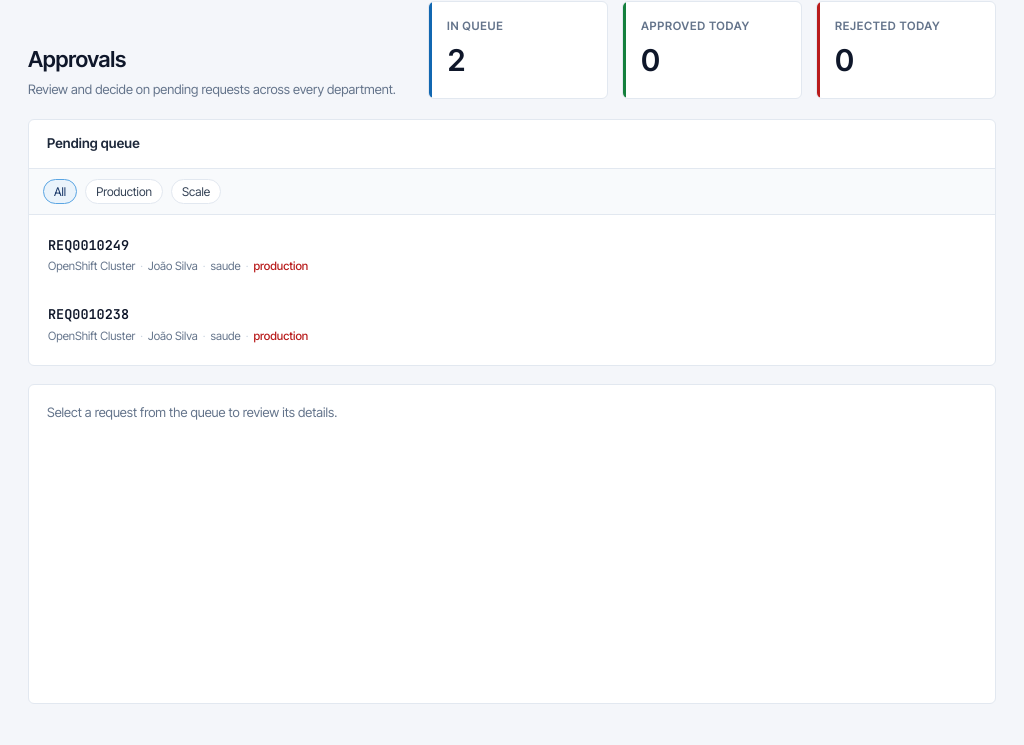
Scenario: Approvals › approving moves request out of queue, sets provisioning + stage=1, logs decided-this-session, and toasts
Click the button with class "approval-row" that starts with "REQ0010249": (88, 245) [48, 236, 308, 273]
(page scrolled)
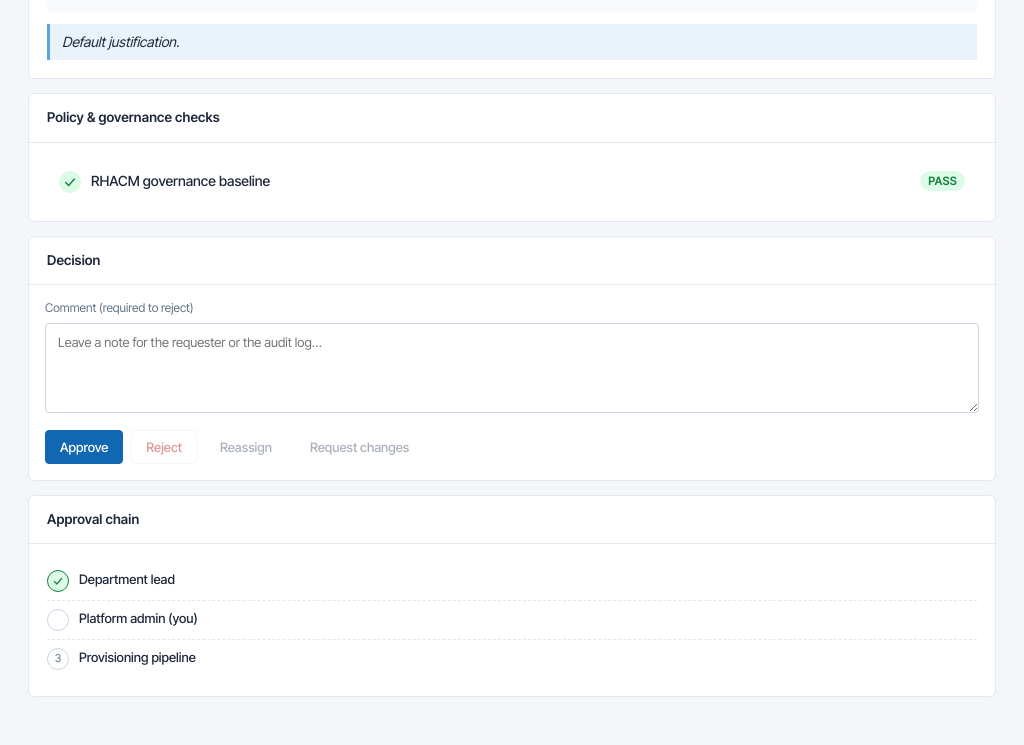
Click the button "Approve": (84, 447) [45, 430, 123, 464]
(page scrolled)
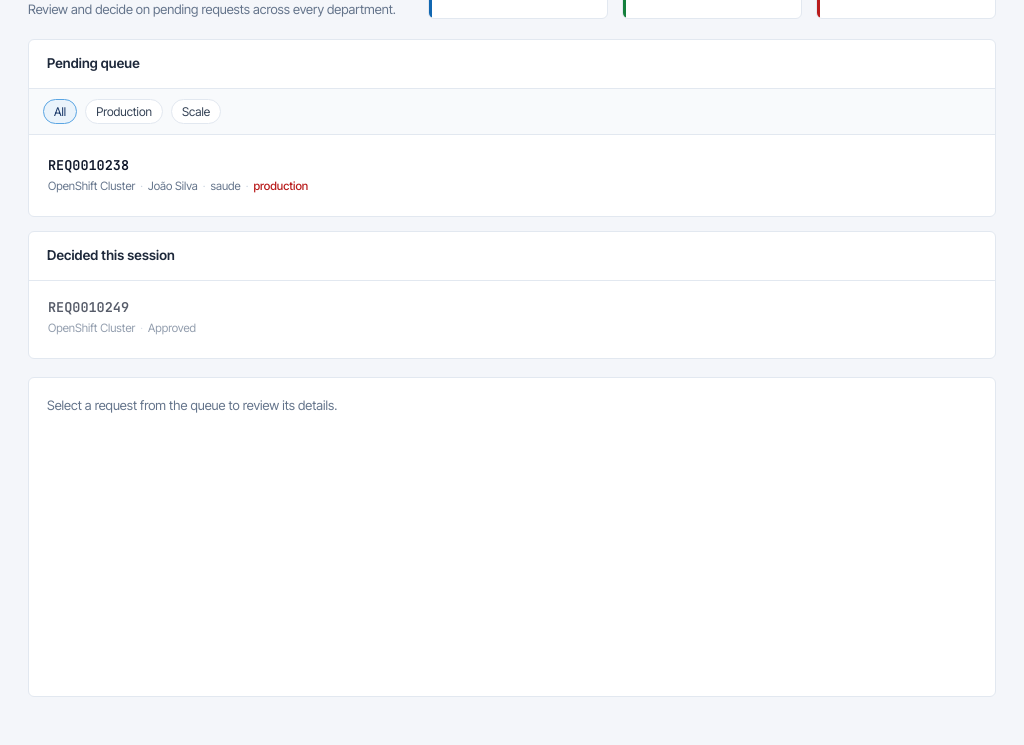
Now the element with test id "decided-this-session" is shown, box [28, 231, 996, 359]
Now the element with test id "decided-this-session" shows "REQ0010249", box [48, 298, 129, 316]
